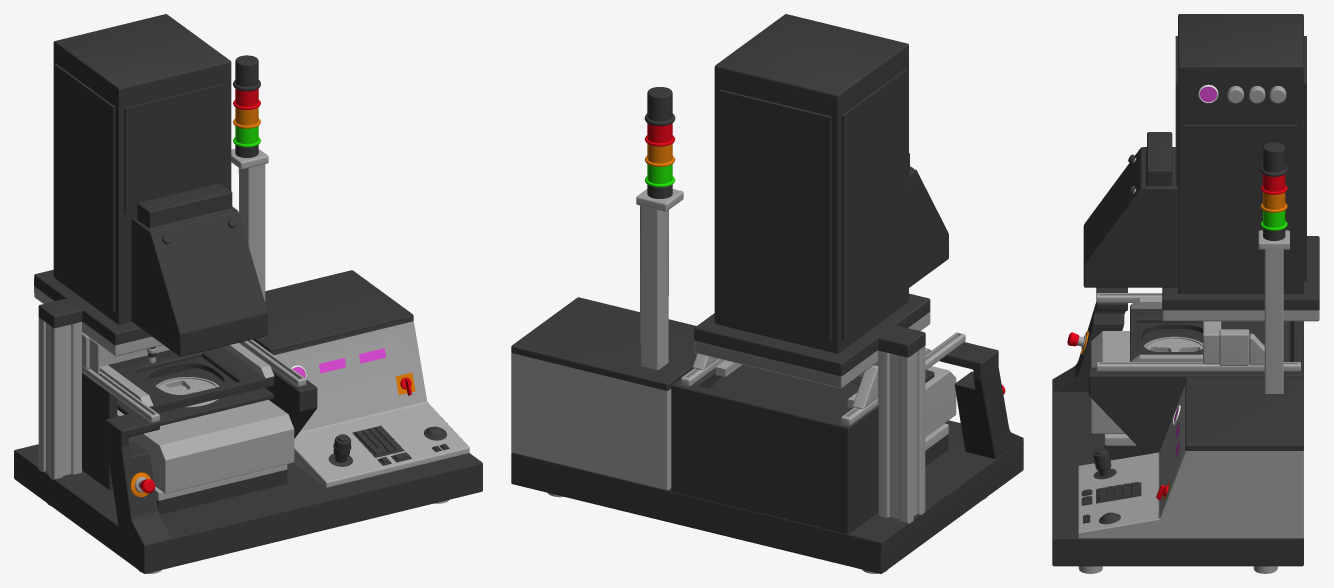
Rendered from S_GravureMachineID.fbx.
3 renders of one model, left to right at view 1: azimuth 30°, elevation 25°; view 2: azimuth 150°, elevation 25°; view 3: azimuth 270°, elevation 25°, orthographic. The views are drawn at different scales.
Visible parts, largest first — view 1: Sphere.008; view 2: Sphere.008; view 3: Sphere.008.
Part boxes in pixels (x1,y1,x2,y2): Sphere.008: (14,14,482,573); Sphere.008: (511,14,1023,573); Sphere.008: (1052,14,1319,573).
Bounding box in the file's own units: 120 × 150 × 85.
